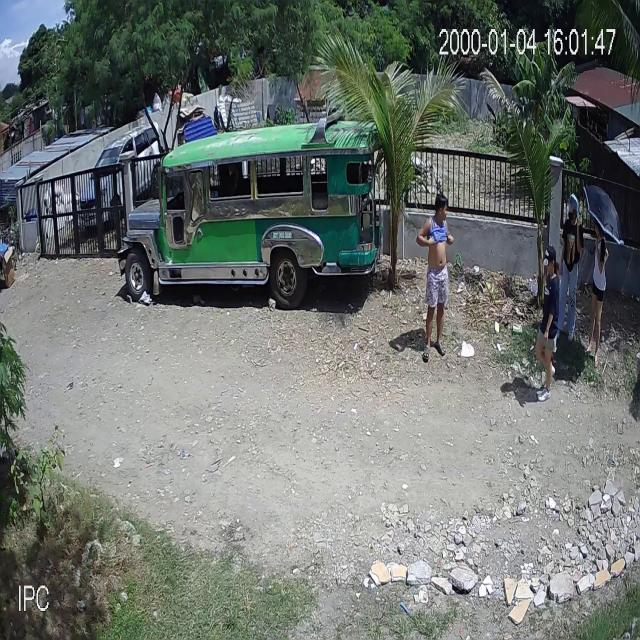standing: (416, 193, 462, 363), (554, 194, 586, 344), (584, 220, 612, 368)
walking: (531, 244, 562, 404)
